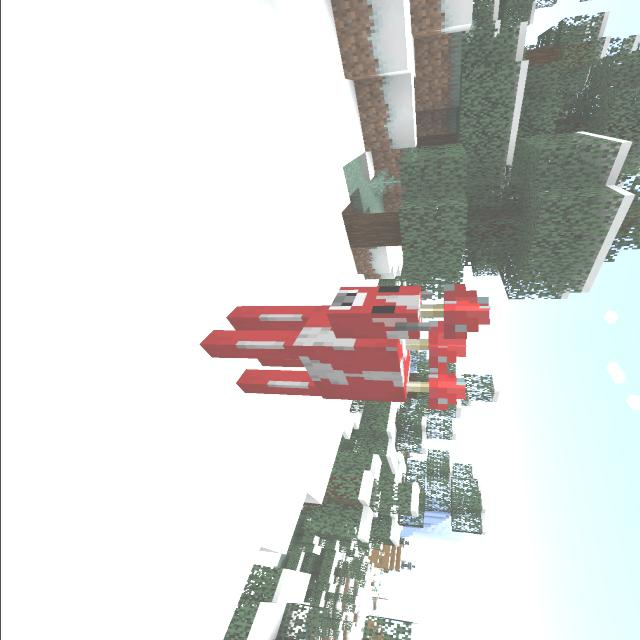Mooshroom: (182, 274, 502, 416)
